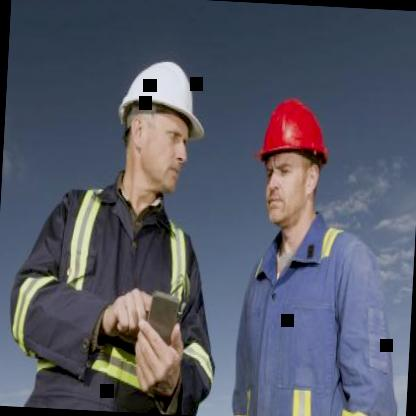helmet: (105, 41, 213, 208), (244, 84, 340, 240)
